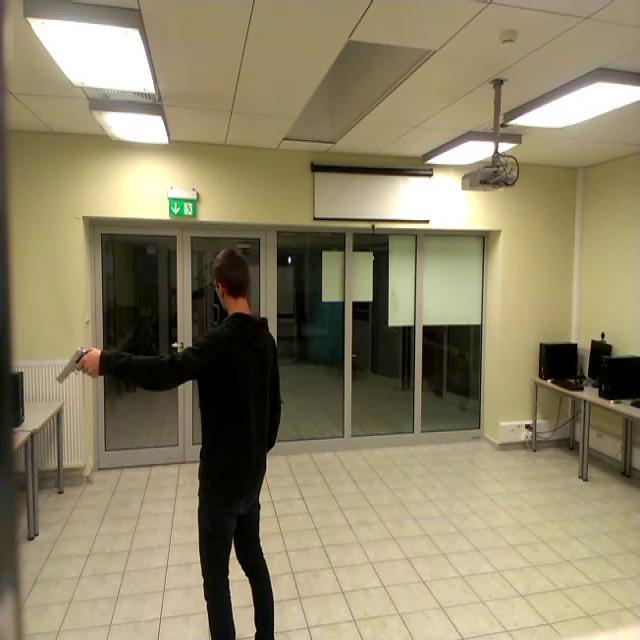Gun: (58, 345, 98, 383)
